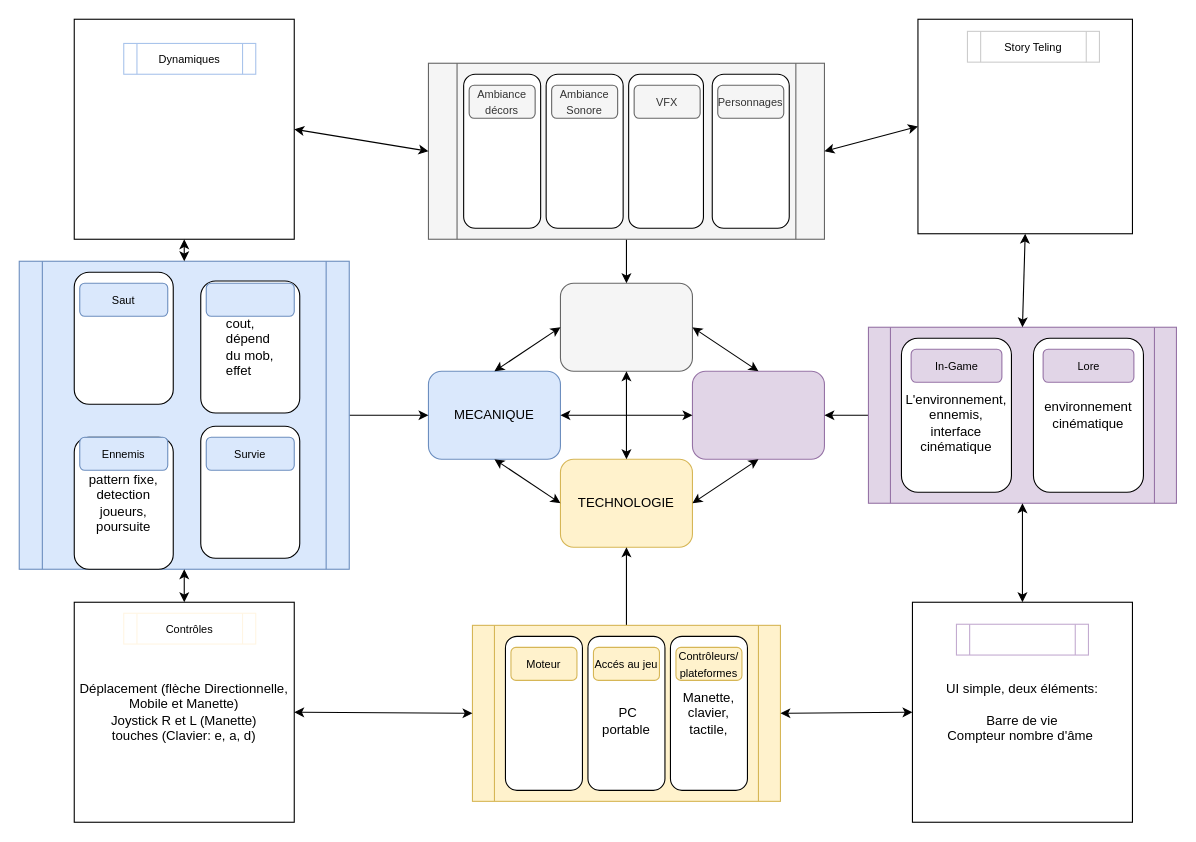
The diagram is 1196 pixels wide and 842 high, and some of its shapes have lost their labels. Each missing label, with the box of its shape:
banshee, baudruche, main, perso: (711, 73, 789, 228)
couleur, forme des niveaux, mob, son: (463, 73, 541, 228)
décors, interface: (917, 18, 1132, 234)
ESTHETIQUE: (559, 282, 692, 371)
Gestion de la vie, régénération, pouvoir: (200, 425, 300, 558)
musiques de fond, bruit d'attaque, cris, bruit de battements: (545, 73, 623, 228)
NARRATION: (691, 370, 824, 459)
Parcours, combat, exploration, usages des pouvoirs: (73, 18, 294, 239)
Parcours, déplacement verticale, air contrôle: (73, 271, 173, 404)
phaser: (504, 635, 582, 790)
Pouvoir: (205, 282, 294, 316)
UI: (955, 623, 1088, 655)
